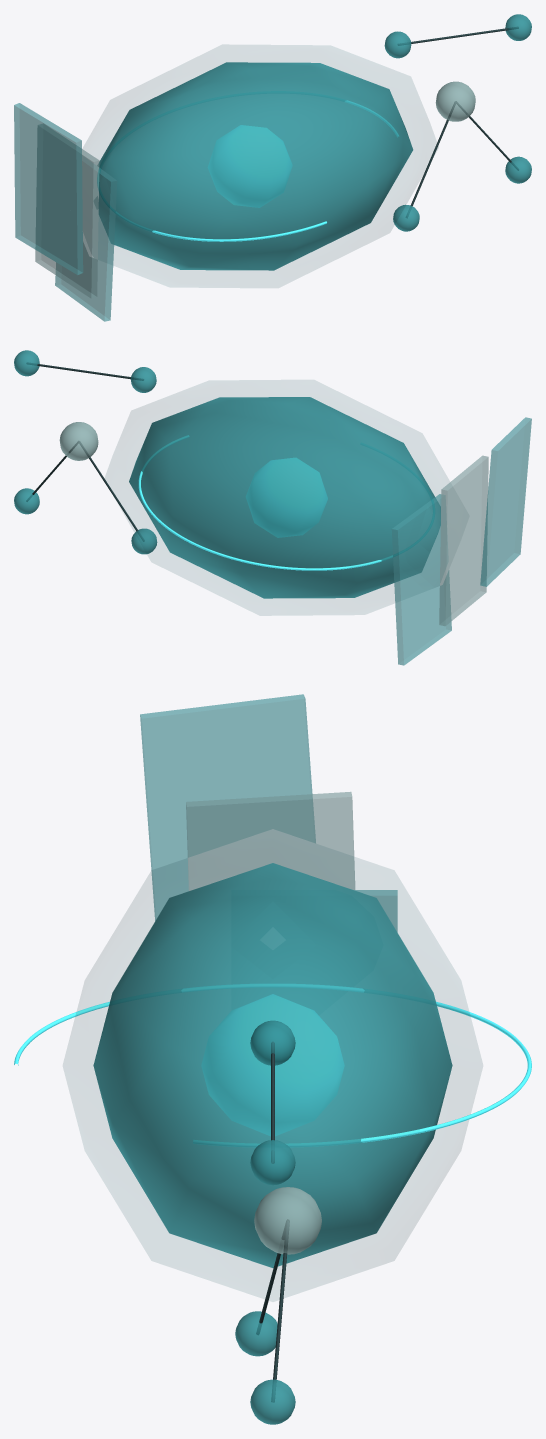
Rendered from ekg-prism.glb.
3 renders of one model, top to bottom at view 1: azimuth 30°, elevation 25°; view 2: azimuth 150°, elevation 25°; view 3: azimuth 270°, elevation 25°, orthographic. The views are drawn at different scales.
Visible parts, largest first — view 1: PARSER_PRISM, PARSER_MEMBRANE, DOCUMENT_02, DOCUMENT_01, ENTITY_CORE, DOCUMENT_00, ENTITY_01, SEMANTIC_SCAN_RING_00, ENTITY_00, ENTITY_02, ENTITY_03, ENTITY_04; view 2: PARSER_PRISM, PARSER_MEMBRANE, DOCUMENT_00, DOCUMENT_01, DOCUMENT_02, ENTITY_CORE, ENTITY_01, SEMANTIC_SCAN_RING_00, ENTITY_02, ENTITY_00, ENTITY_03, ENTITY_04; view 3: PARSER_PRISM, PARSER_MEMBRANE, DOCUMENT_02, DOCUMENT_01, ENTITY_CORE, ENTITY_01, SEMANTIC_SCAN_RING_00, ENTITY_03, ENTITY_04, ENTITY_00, ENTITY_02, DOCUMENT_00.
Boxes of the visible parts, left/top/right/bottom form: PARSER_PRISM: left=94, top=62, right=413, bottom=270; PARSER_MEMBRANE: left=83, top=45, right=438, bottom=287; DOCUMENT_02: left=14, top=103, right=83, bottom=274; DOCUMENT_01: left=35, top=124, right=99, bottom=298; ENTITY_CORE: left=208, top=125, right=292, bottom=207; DOCUMENT_00: left=55, top=168, right=117, bottom=321; ENTITY_01: left=435, top=81, right=475, bottom=121; SEMANTIC_SCAN_RING_00: left=97, top=100, right=398, bottom=241; ENTITY_00: left=384, top=31, right=411, bottom=58; ENTITY_02: left=393, top=204, right=419, bottom=231; ENTITY_03: left=505, top=14, right=531, bottom=40; ENTITY_04: left=505, top=156, right=531, bottom=183; PARSER_PRISM: left=129, top=397, right=440, bottom=598; PARSER_MEMBRANE: left=104, top=380, right=449, bottom=615; DOCUMENT_00: left=391, top=494, right=451, bottom=665; DOCUMENT_01: left=439, top=455, right=488, bottom=625; DOCUMENT_02: left=480, top=417, right=531, bottom=586; ENTITY_CORE: left=246, top=458, right=327, bottom=537; ENTITY_01: left=59, top=422, right=98, bottom=460; SEMANTIC_SCAN_RING_00: left=138, top=435, right=392, bottom=570; ENTITY_02: left=131, top=528, right=157, bottom=554; ENTITY_00: left=130, top=367, right=156, bottom=392; ENTITY_03: left=14, top=350, right=39, bottom=376; ENTITY_04: left=14, top=488, right=39, bottom=514; PARSER_PRISM: left=93, top=863, right=452, bottom=1267; PARSER_MEMBRANE: left=63, top=830, right=482, bottom=1301; DOCUMENT_02: left=140, top=694, right=315, bottom=920; DOCUMENT_01: left=186, top=792, right=355, bottom=890; ENTITY_CORE: left=201, top=994, right=344, bottom=1135; ENTITY_01: left=254, top=1187, right=321, bottom=1254; SEMANTIC_SCAN_RING_00: left=14, top=984, right=531, bottom=1147; ENTITY_03: left=250, top=1140, right=295, bottom=1185; ENTITY_04: left=250, top=1379, right=295, bottom=1424; ENTITY_00: left=250, top=1020, right=295, bottom=1065; ENTITY_02: left=235, top=1311, right=277, bottom=1356; DOCUMENT_00: left=261, top=890, right=397, bottom=949.
Size of what is drawn, in the model's own units: 2.61 by 1.12 by 1.37.
